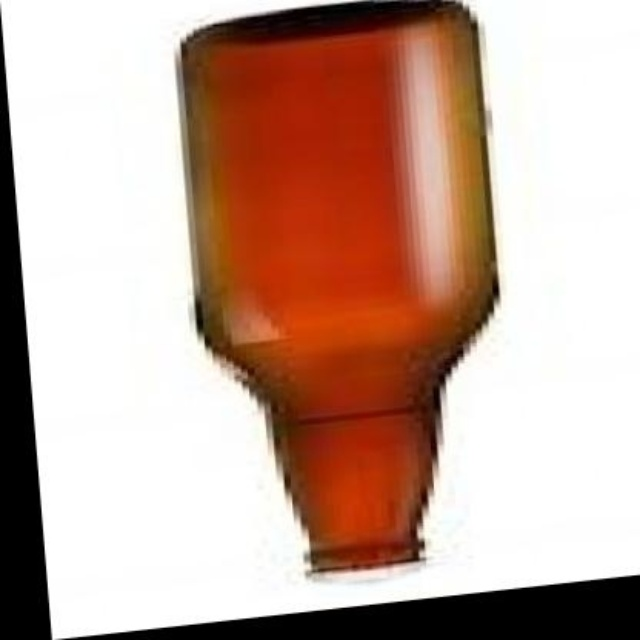trash: (178, 0, 497, 569)
